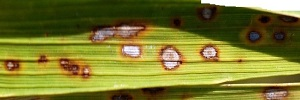RiceBrownSpot: (2, 53, 96, 81), (87, 20, 153, 59), (156, 42, 184, 72), (197, 40, 222, 65), (261, 85, 292, 100)
